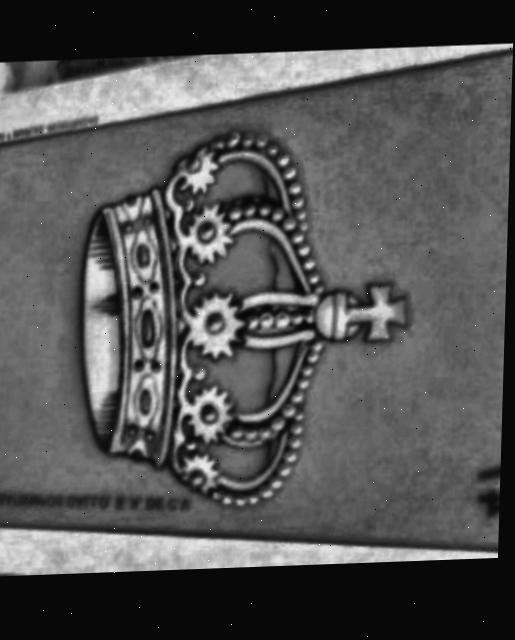La Corona: (0, 61, 513, 551)
